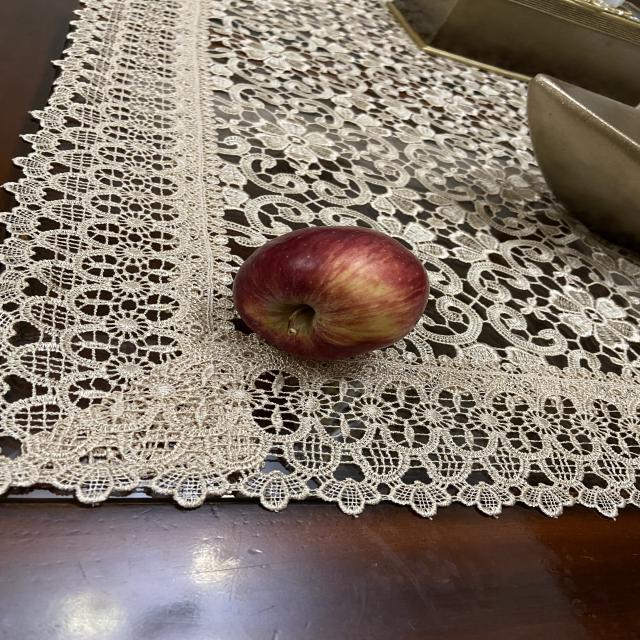apple: (220, 224, 432, 370)
